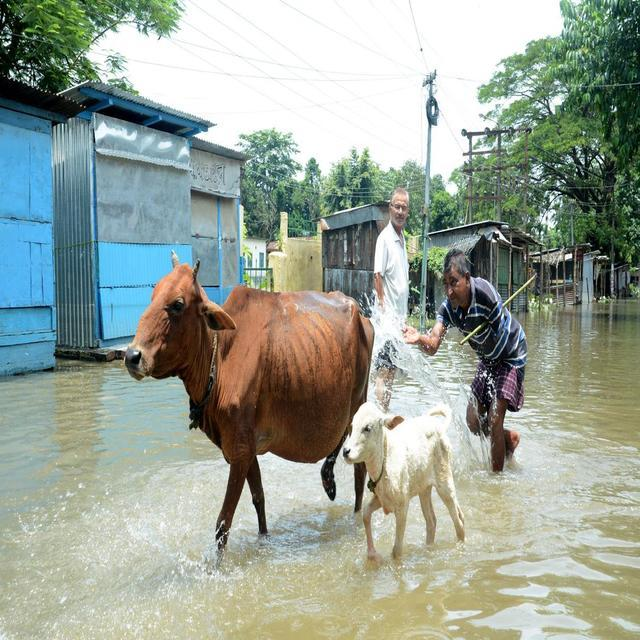Person-RiskLevel2: (415, 249, 549, 464), (356, 186, 430, 424)
